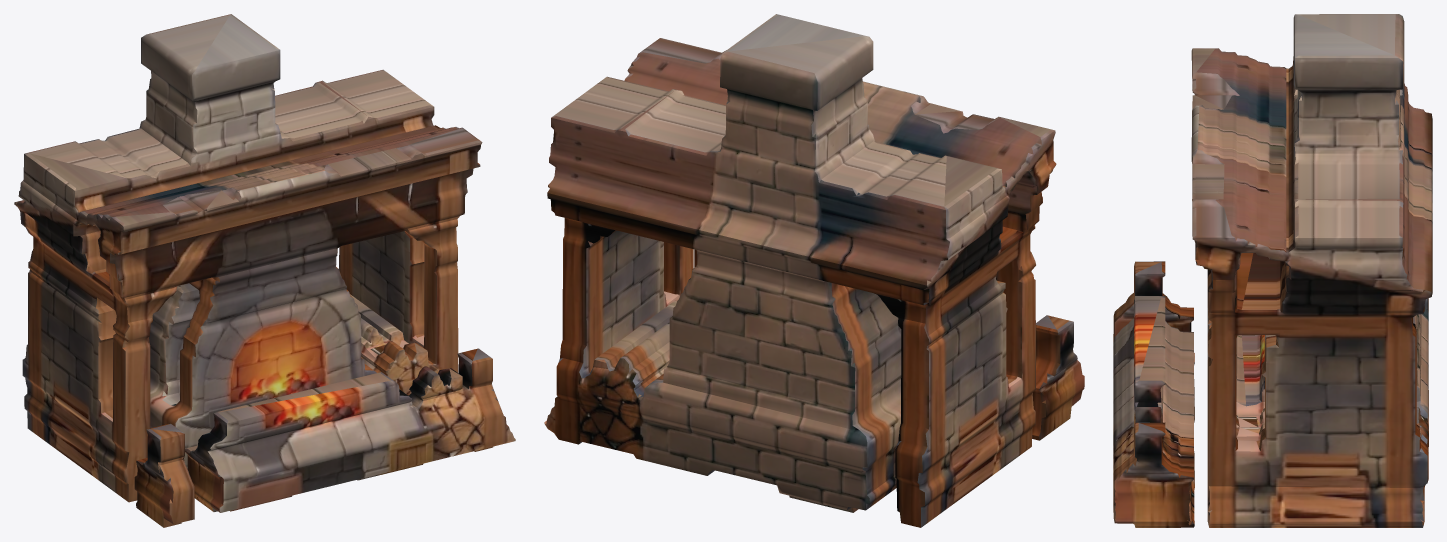
Rendered from town-forge.glb.
3 renders of one model, left to right at view 1: azimuth 30°, elevation 25°; view 2: azimuth 150°, elevation 25°; view 3: azimuth 270°, elevation 25°, orthographic. The views are drawn at different scales.
Visible parts, largest first — view 1: piece; view 2: piece; view 3: piece.
Boxes of the visible parts, bbox=[...] form: piece: bbox=[14, 14, 515, 527]; piece: bbox=[544, 14, 1084, 527]; piece: bbox=[1113, 14, 1432, 527].
Size of the model in its own units: 3.57 by 3.6 by 2.55.
1 material, 1 textured.
